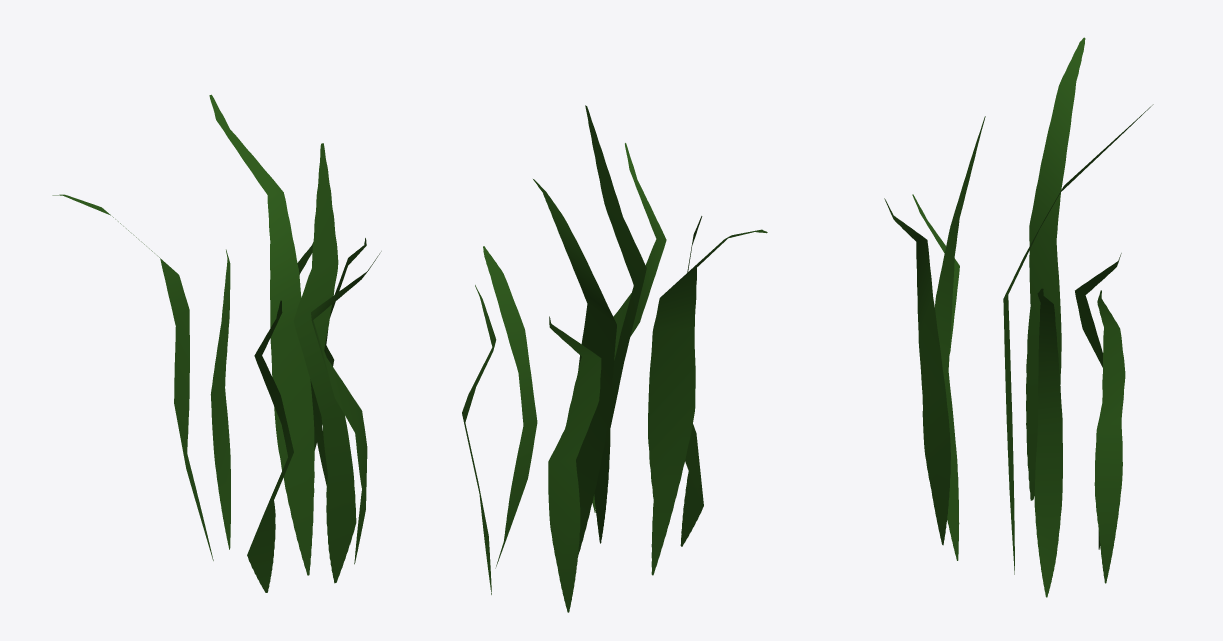
File: grass.fbx
3 renders of one model, left to right at view 1: azimuth 30°, elevation 25°; view 2: azimuth 150°, elevation 25°; view 3: azimuth 270°, elevation 25°, orthographic. The views are drawn at different scales.
Parts seen in each view (by area): view 1: Plane; view 2: Plane; view 3: Plane.
Boxes of the visible parts, x1,y1,x2,y2 form: Plane: (52, 94, 381, 592); Plane: (462, 105, 767, 612); Plane: (884, 37, 1153, 597).
Bounding box in the file's own units: 34.9 × 56.11 × 33.33.
